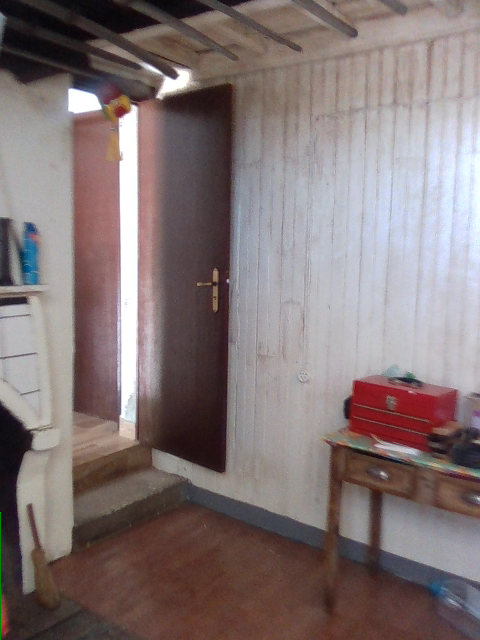open: (136, 84, 231, 469)
